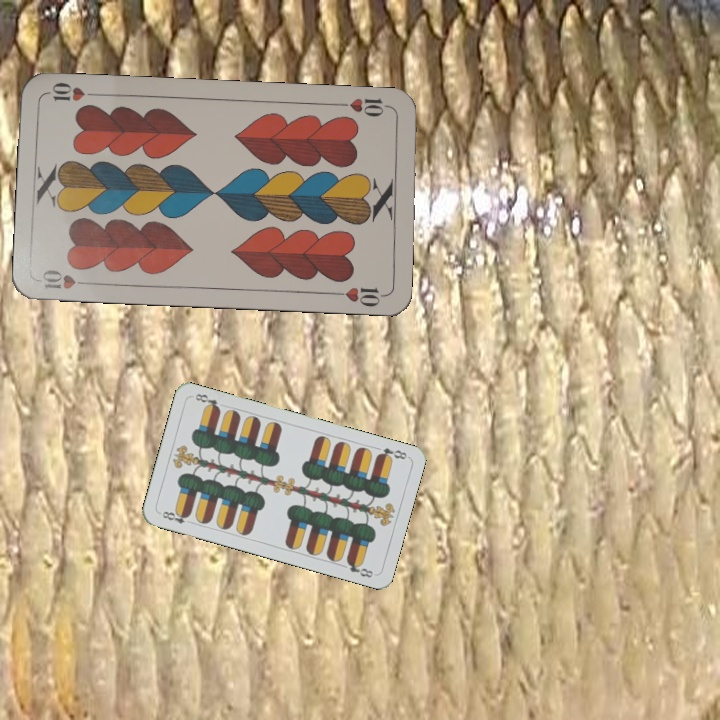E8: (156, 507, 195, 527), (372, 444, 409, 463)
H10: (38, 265, 95, 292), (335, 94, 394, 120)
